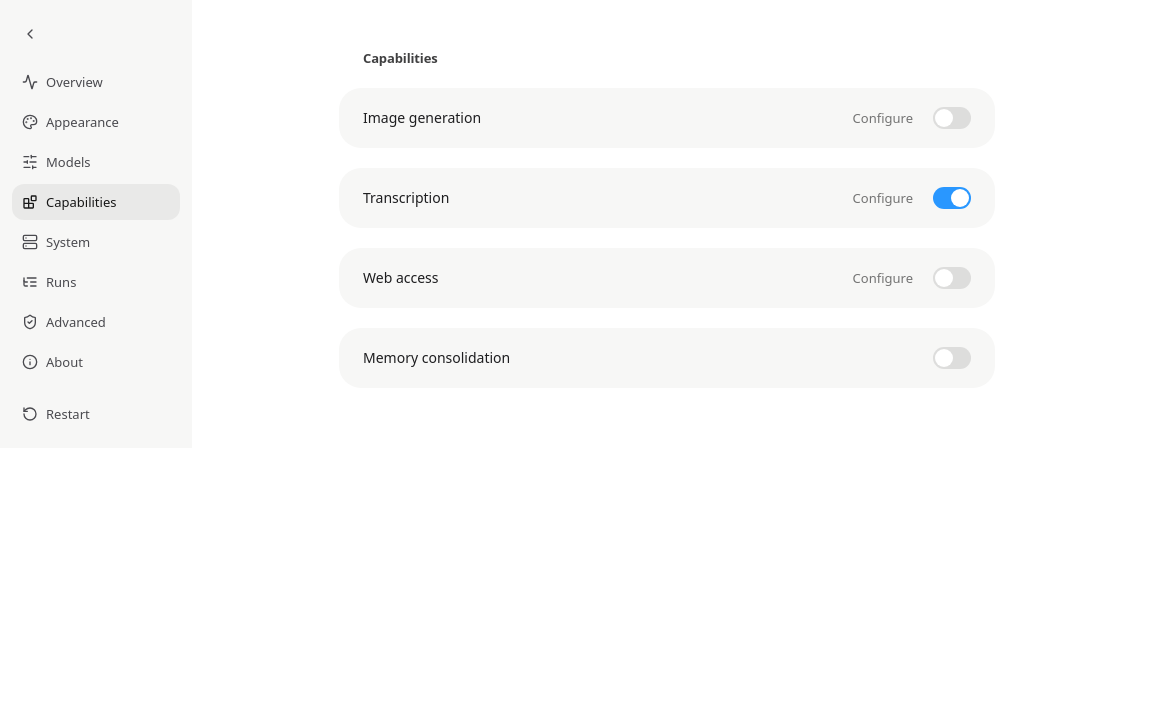
Test: Settings capabilities › reveals web search settings when web tools are enabled
Click the switch named "Web access" at {"x": 952, "y": 278}, box [933,267,971,289]
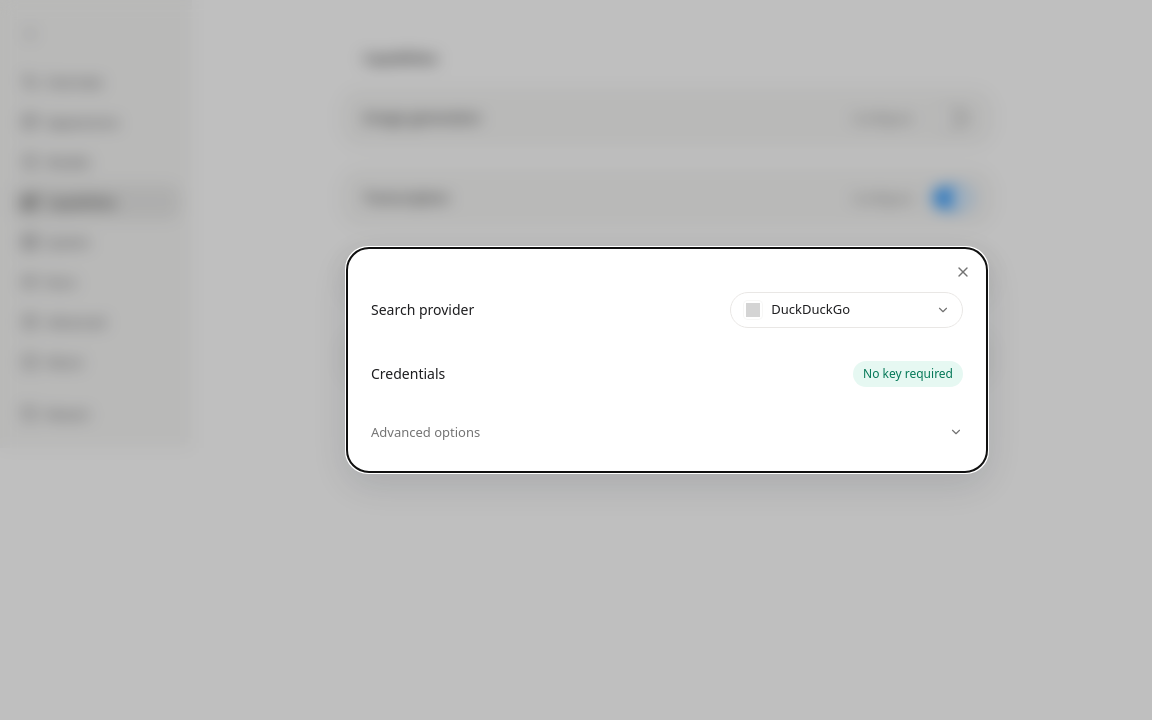
Check: the dropdown labelled "DuckDuckGo" is shown, box [730,292,963,328]
